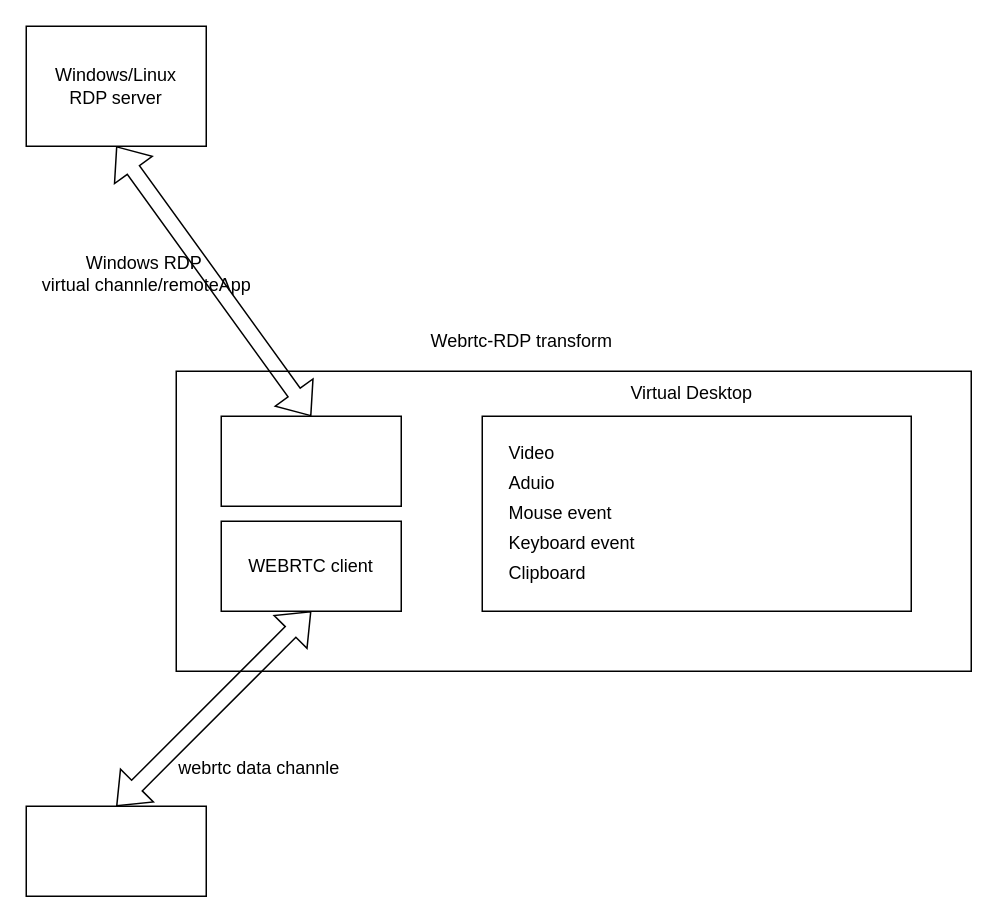
This 998x923 diagram has some shape labels left out. The centre of each missing label's shape, as x and y in pixels:
RDP client: the point at 310,460
User Browser: the point at 115,850
